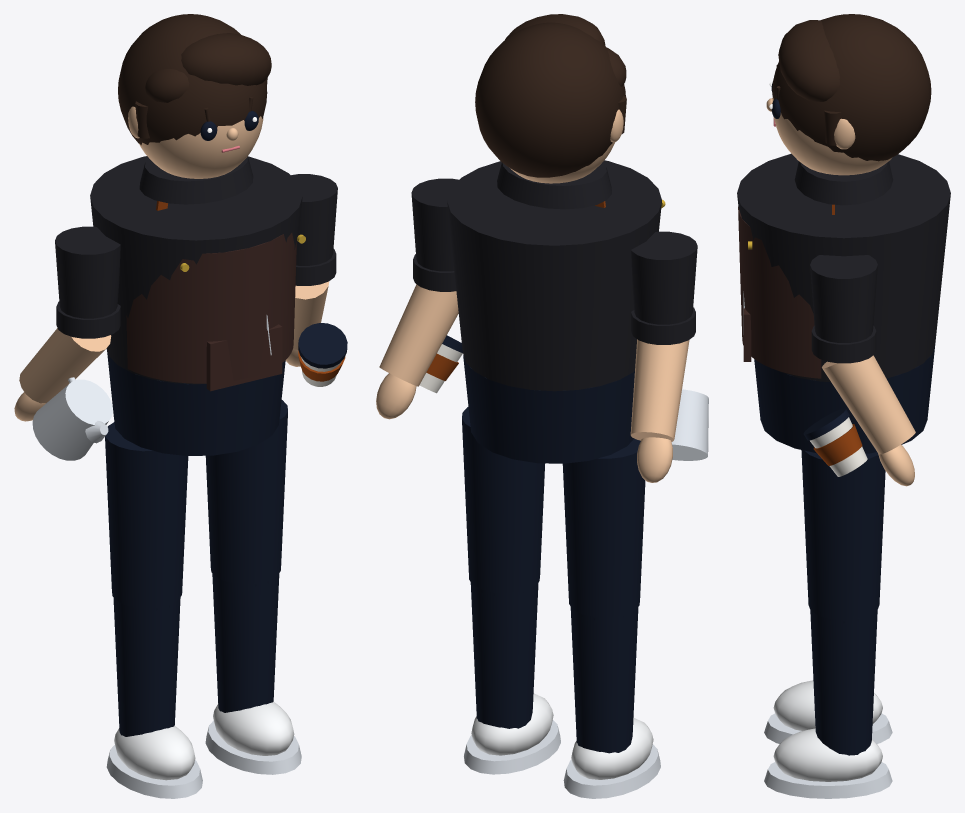
File: ShiftSync_Barista.glb
3 views of the same model, side by side, from view 1: azimuth 30°, elevation 25°; view 2: azimuth 150°, elevation 25°; view 3: azimuth 270°, elevation 25° (orthographic).
Visible parts, largest first — view 1: Spine, Chest, LeftHip, Pelvis, RightHip, Hair_Crown, RightKnee, LeftKnee, LeftAnkle, RightAnkle, L_UpperArm, PitcherBody (+10 smaller); view 2: Chest, Hair_Crown, LeftHip, Pelvis, RightHip, RightKnee, LeftKnee, L_UpperArm, L_Forearm, RightAnkle, LeftAnkle, R_Forearm (+9 smaller); view 3: Chest, Hair_Crown, RightHip, RightKnee, Spine, Pelvis, RightAnkle, R_UpperArm, R_Forearm, Barista_MainQuiff, Shirt_Collar, LeftAnkle (+8 smaller).
Boxes of the visible parts, x1,y1,x2,y2 form: Spine: (126,201,305,391); Chest: (90,156,302,384); LeftHip: (105,422,188,607); Pelvis: (107,351,285,455); RightHip: (205,400,287,583); Hair_Crown: (118,14,267,145); RightKnee: (212,573,279,712); LeftKnee: (113,597,180,736); LeftAnkle: (106,726,202,798); RightAnkle: (205,701,301,774); L_UpperArm: (55,226,120,318); PitcherBody: (32,379,112,460); Chest: (447,160,661,391); Hair_Crown: (475,22,625,177); LeftHip: (562,438,645,617); Pelvis: (463,355,634,463); RightHip: (462,407,545,592); RightKnee: (470,582,538,728); LeftKnee: (570,607,638,753); L_UpperArm: (631,231,697,324); L_Forearm: (630,339,689,441); RightAnkle: (464,693,560,774); LeftAnkle: (563,717,660,798); R_Forearm: (379,284,458,386); Chest: (737,153,950,382); Hair_Crown: (772,14,931,161); RightHip: (801,450,885,619); RightKnee: (810,610,877,755); Spine: (738,204,834,378); Pelvis: (754,345,935,453); RightAnkle: (764,728,892,798); R_UpperArm: (810,255,877,342); R_Forearm: (822,355,915,454); Barista_MainQuiff: (778,20,839,101); Shirt_Collar: (794,161,893,205); LeftAnkle: (764,680,892,743).
Size of the model in its own units: 0.6724 by 1.56 by 0.41.
